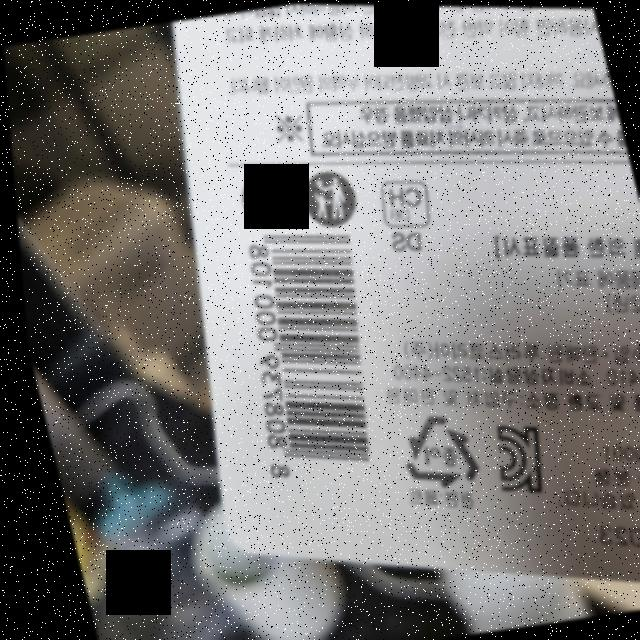Paper: (386, 407, 475, 492)
